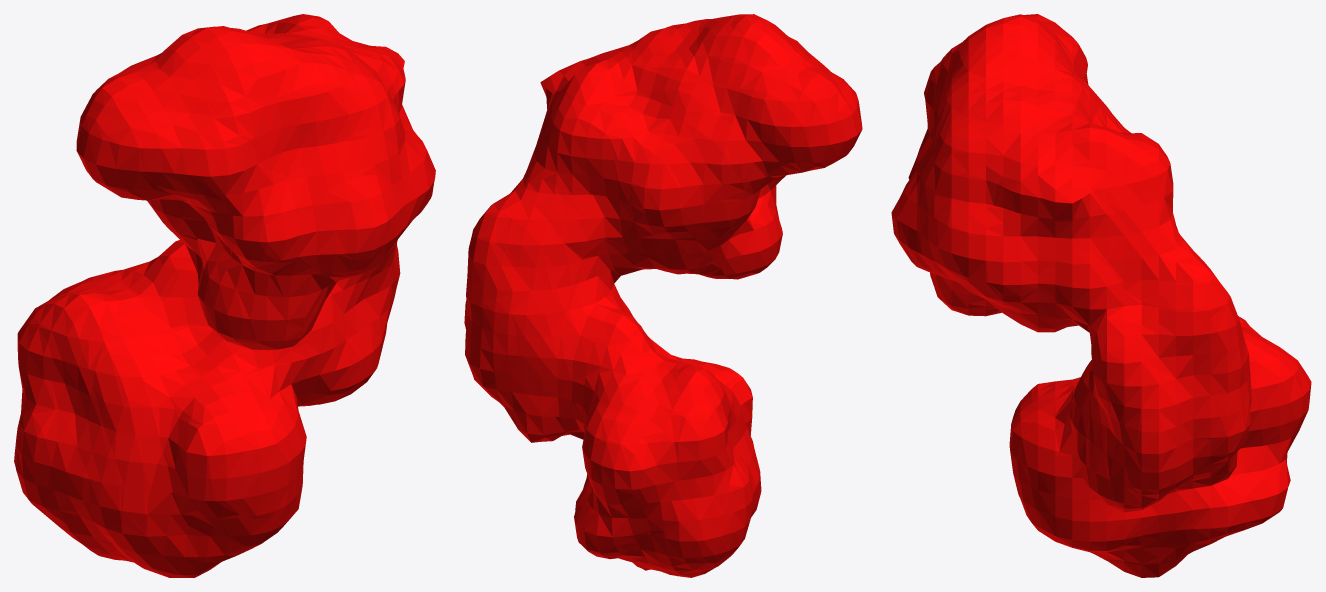
Rendered from yfaY_coarse.dae.
3 renders of one model, left to right at view 1: azimuth 30°, elevation 25°; view 2: azimuth 150°, elevation 25°; view 3: azimuth 270°, elevation 25°, orthographic. The views are drawn at different scales.
Visible parts, largest first — view 1: yfaY; view 2: yfaY; view 3: yfaY.
Boxes of the visible parts, box(x1,y1,x2,y2) form: yfaY: box(14, 14, 435, 577); yfaY: box(464, 14, 862, 577); yfaY: box(891, 14, 1311, 577).
Bounding box in the file's own units: 58.12 × 86.28 × 60.95.
